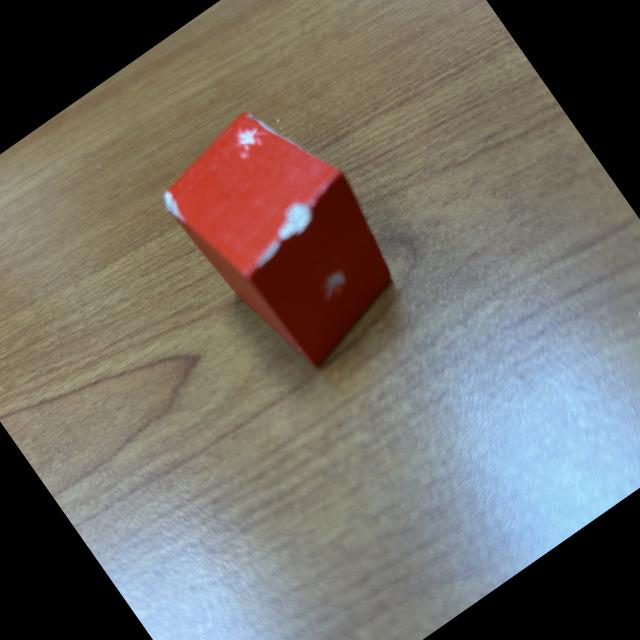broken: (146, 83, 428, 386)
